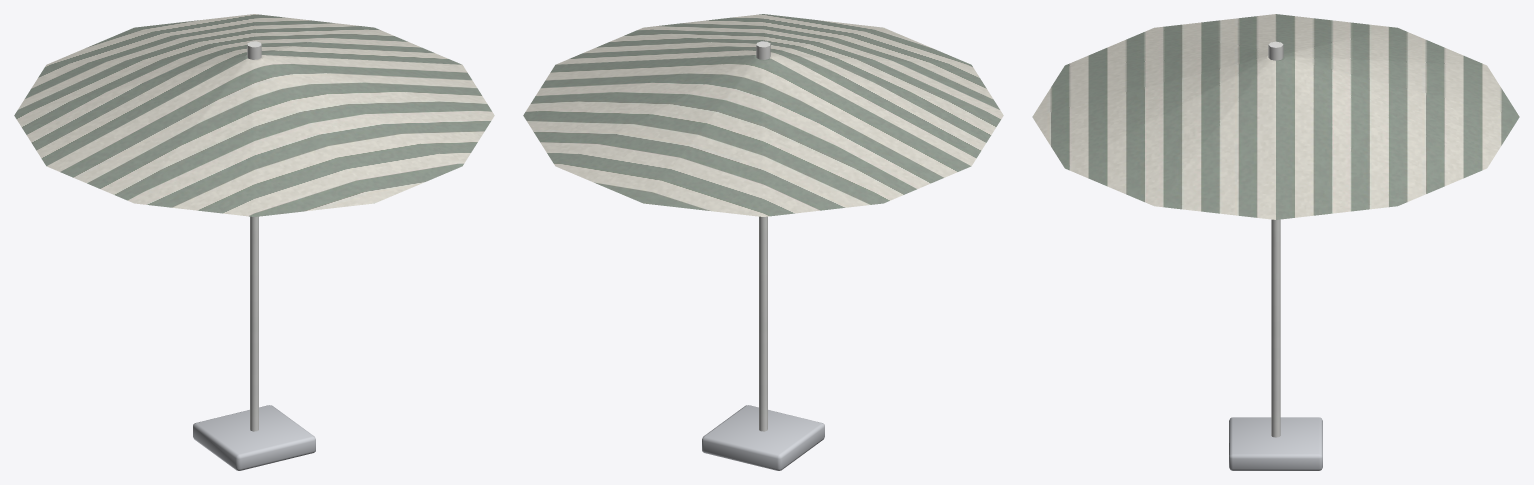
3 renders of one model, left to right at view 1: azimuth 30°, elevation 25°; view 2: azimuth 150°, elevation 25°; view 3: azimuth 270°, elevation 25°, orthographic.
Parts seen in each view (by area): view 1: Decor_parasol; view 2: Decor_parasol; view 3: Decor_parasol.
Boxes of the visible parts, x1=… form: Decor_parasol: x1=14, y1=14, x2=494, y2=470; Decor_parasol: x1=523, y1=14, x2=1003, y2=470; Decor_parasol: x1=1032, y1=14, x2=1519, y2=470.
Size of the model in its own units: 2.6 by 2.4 by 2.6.
Materials: 3 (2 with a texture image).
